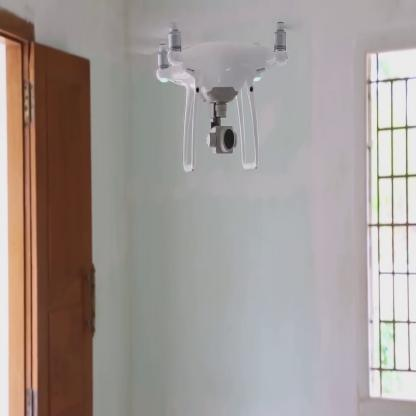drone: (130, 18, 308, 185)
